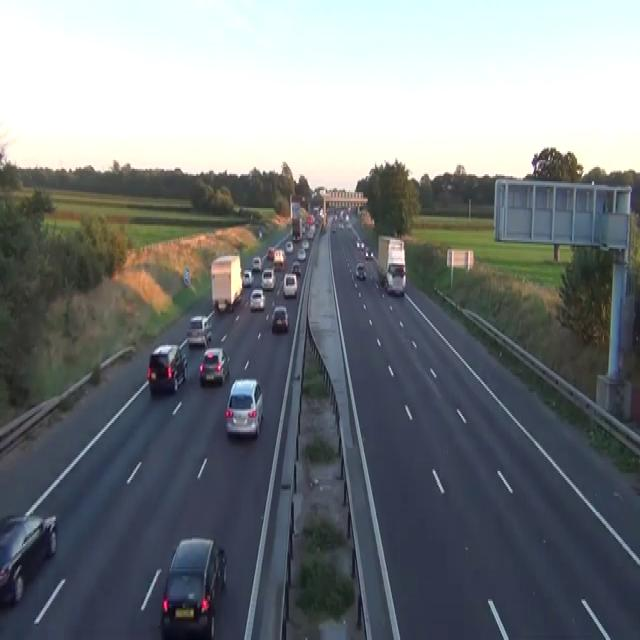Car: (159, 535, 227, 638), (0, 512, 57, 606), (224, 377, 263, 437), (147, 343, 187, 393), (198, 346, 230, 386), (186, 314, 212, 346), (385, 263, 405, 295), (271, 304, 289, 332), (355, 238, 373, 260), (282, 272, 297, 297), (249, 288, 265, 311), (260, 268, 275, 290), (273, 249, 285, 268), (355, 261, 366, 279), (242, 268, 253, 286), (291, 260, 301, 276), (251, 256, 262, 270), (183, 267, 190, 286), (297, 247, 305, 260), (365, 245, 373, 258), (267, 246, 274, 260), (285, 240, 293, 252), (307, 213, 315, 224), (356, 238, 364, 249), (292, 231, 300, 242), (307, 226, 314, 238), (301, 240, 309, 249), (320, 222, 326, 233), (312, 204, 319, 213), (355, 238, 360, 249), (319, 208, 324, 219), (302, 222, 306, 235), (331, 221, 336, 231), (346, 220, 351, 230), (337, 220, 343, 228), (360, 240, 365, 249), (365, 247, 369, 258), (258, 228, 262, 238)
Truck: (210, 252, 242, 313), (377, 235, 406, 295), (292, 215, 302, 240)
